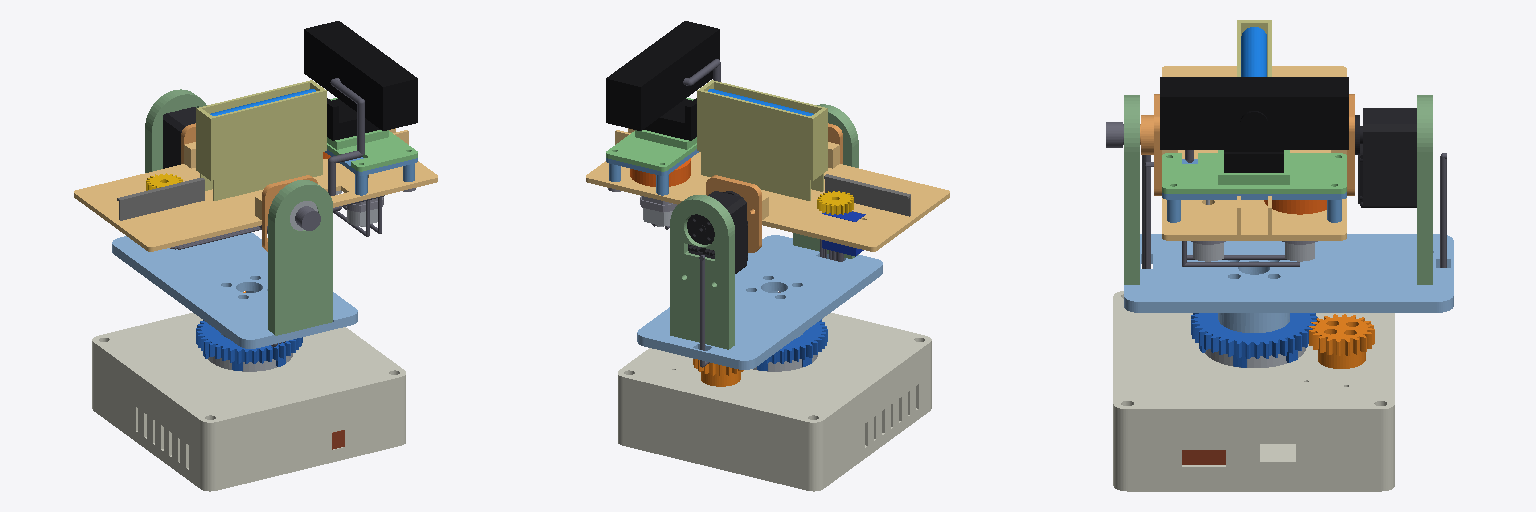
robot.urdf — torreta:
<?xml version="1.0"?>
<!-- GERADO por cad/gerar_urdf.py a partir do CAD da torreta. Não editar à mão: mudar o gerador. -->
<robot name="torreta">
  <material name="cor_12_12_13"><color rgba="0.12 0.12 0.13 1"/></material>
  <material name="cor_15_30_75"><color rgba="0.15 0.3 0.75 1"/></material>
  <material name="cor_15_55_95"><color rgba="0.15 0.55 0.95 1"/></material>
  <material name="cor_20_20_22"><color rgba="0.2 0.2 0.22 1"/></material>
  <material name="cor_20_45_80"><color rgba="0.2 0.45 0.8 1"/></material>
  <material name="cor_40_40_45"><color rgba="0.4 0.4 0.45 1"/></material>
  <material name="cor_45_45_50"><color rgba="0.45 0.45 0.5 1"/></material>
  <material name="cor_45_65_85"><color rgba="0.45 0.65 0.85 1"/></material>
  <material name="cor_50_50_50"><color rgba="0.5 0.5 0.5 1"/></material>
  <material name="cor_55_55_60"><color rgba="0.55 0.55 0.6 1"/></material>
  <material name="cor_55_70_55"><color rgba="0.55 0.7 0.55 1"/></material>
  <material name="cor_55_80_55"><color rgba="0.55 0.8 0.55 1"/></material>
  <material name="cor_60_30_20"><color rgba="0.6 0.3 0.2 1"/></material>
  <material name="cor_60_75_90"><color rgba="0.6 0.75 0.9 1"/></material>
  <material name="cor_70_72_75"><color rgba="0.7 0.72 0.75 1"/></material>
  <material name="cor_80_80_55"><color rgba="0.8 0.8 0.55 1"/></material>
  <material name="cor_85_25_25"><color rgba="0.85 0.25 0.25 1"/></material>
  <material name="cor_85_85_80"><color rgba="0.85 0.85 0.8 1"/></material>
  <material name="cor_90_65_40"><color rgba="0.9 0.65 0.4 1"/></material>
  <material name="cor_95_45_15"><color rgba="0.95 0.45 0.15 1"/></material>
  <material name="cor_95_55_15"><color rgba="0.95 0.55 0.15 1"/></material>
  <material name="cor_95_75_10"><color rgba="0.95 0.75 0.1 1"/></material>
  <material name="cor_95_80_55"><color rgba="0.95 0.8 0.55 1"/></material>

  <!-- world vazio: o robot_state_publisher não aceita inércia no link raiz; no Gazebo, prende a base.
       A base sobe o fundo da caixa até o chão (a origem do CAD é o topo do tampo). -->
  <link name="world"/>
  <joint name="world_base" type="fixed"><parent link="world"/><child link="base_link"/><origin xyz="0 0 0.0450128" rpy="0 0 0"/></joint>

  <link name="base_link">
    <visual>
      <origin xyz="0 0 0" rpy="0 0 0"/>
      <geometry><mesh filename="package://torreta_description/meshes/base_link_0.stl" scale="0.001 0.001 0.001"/></geometry>
      <material name="cor_20_20_22"/>
    </visual>
    <visual>
      <origin xyz="0 0 0" rpy="0 0 0"/>
      <geometry><mesh filename="package://torreta_description/meshes/base_link_1.stl" scale="0.001 0.001 0.001"/></geometry>
      <material name="cor_40_40_45"/>
    </visual>
    <visual>
      <origin xyz="0 0 0" rpy="0 0 0"/>
      <geometry><mesh filename="package://torreta_description/meshes/base_link_2.stl" scale="0.001 0.001 0.001"/></geometry>
      <material name="cor_60_30_20"/>
    </visual>
    <visual>
      <origin xyz="0 0 0" rpy="0 0 0"/>
      <geometry><mesh filename="package://torreta_description/meshes/base_link_3.stl" scale="0.001 0.001 0.001"/></geometry>
      <material name="cor_70_72_75"/>
    </visual>
    <visual>
      <origin xyz="0 0 0" rpy="0 0 0"/>
      <geometry><mesh filename="package://torreta_description/meshes/base_link_4.stl" scale="0.001 0.001 0.001"/></geometry>
      <material name="cor_85_85_80"/>
    </visual>
    <inertial>
      <origin xyz="0.00274903 0.00500803 -0.0153702" rpy="0 0 0"/>
      <mass value="0.370294"/>
      <inertia ixx="0.000765308" ixy="-4.05328e-05" ixz="2.07141e-06" iyy="0.000716418" iyz="6.34525e-06" izz="0.00126087"/>
    </inertial>
  </link>

  <link name="pinhao_pan">
    <visual>
      <origin xyz="0 0 0" rpy="0 0 0"/>
      <geometry><mesh filename="package://torreta_description/meshes/pinhao_pan_0.stl" scale="0.001 0.001 0.001"/></geometry>
      <material name="cor_95_55_15"/>
    </visual>
    <inertial>
      <origin xyz="1.35105e-18 2.5619e-18 0.00978645" rpy="0 0 0"/>
      <mass value="0.00947438"/>
      <inertia ixx="7.30724e-07" ixy="3.75762e-22" ixz="3.80726e-23" iyy="7.30724e-07" iyz="1.90239e-22" izz="1.00247e-06"/>
    </inertial>
  </link>

  <link name="pan_link">
    <visual>
      <origin xyz="0 0 0" rpy="0 0 0"/>
      <geometry><mesh filename="package://torreta_description/meshes/pan_link_0.stl" scale="0.001 0.001 0.001"/></geometry>
      <material name="cor_20_20_22"/>
    </visual>
    <visual>
      <origin xyz="0 0 0" rpy="0 0 0"/>
      <geometry><mesh filename="package://torreta_description/meshes/pan_link_1.stl" scale="0.001 0.001 0.001"/></geometry>
      <material name="cor_20_45_80"/>
    </visual>
    <visual>
      <origin xyz="0 0 0" rpy="0 0 0"/>
      <geometry><mesh filename="package://torreta_description/meshes/pan_link_2.stl" scale="0.001 0.001 0.001"/></geometry>
      <material name="cor_40_40_45"/>
    </visual>
    <visual>
      <origin xyz="0 0 0" rpy="0 0 0"/>
      <geometry><mesh filename="package://torreta_description/meshes/pan_link_3.stl" scale="0.001 0.001 0.001"/></geometry>
      <material name="cor_55_70_55"/>
    </visual>
    <visual>
      <origin xyz="0 0 0" rpy="0 0 0"/>
      <geometry><mesh filename="package://torreta_description/meshes/pan_link_4.stl" scale="0.001 0.001 0.001"/></geometry>
      <material name="cor_60_75_90"/>
    </visual>
    <visual>
      <origin xyz="0 0 0" rpy="0 0 0"/>
      <geometry><mesh filename="package://torreta_description/meshes/pan_link_5.stl" scale="0.001 0.001 0.001"/></geometry>
      <material name="cor_70_72_75"/>
    </visual>
    <inertial>
      <origin xyz="3.51657e-05 0.0192638 0.065288" rpy="0 0 0"/>
      <mass value="0.259808"/>
      <inertia ixx="0.00110694" ixy="2.65069e-07" ixz="2.12766e-07" iyy="0.000407362" iyz="-7.39599e-05" izz="0.000841564"/>
    </inertial>
  </link>

  <link name="berco">
    <visual>
      <origin xyz="0 0 0" rpy="0 0 0"/>
      <geometry><mesh filename="package://torreta_description/meshes/berco_0.stl" scale="0.001 0.001 0.001"/></geometry>
      <material name="cor_12_12_13"/>
    </visual>
    <visual>
      <origin xyz="0 0 0" rpy="0 0 0"/>
      <geometry><mesh filename="package://torreta_description/meshes/berco_1.stl" scale="0.001 0.001 0.001"/></geometry>
      <material name="cor_15_30_75"/>
    </visual>
    <visual>
      <origin xyz="0 0 0" rpy="0 0 0"/>
      <geometry><mesh filename="package://torreta_description/meshes/berco_2.stl" scale="0.001 0.001 0.001"/></geometry>
      <material name="cor_15_55_95"/>
    </visual>
    <visual>
      <origin xyz="0 0 0" rpy="0 0 0"/>
      <geometry><mesh filename="package://torreta_description/meshes/berco_3.stl" scale="0.001 0.001 0.001"/></geometry>
      <material name="cor_40_40_45"/>
    </visual>
    <visual>
      <origin xyz="0 0 0" rpy="0 0 0"/>
      <geometry><mesh filename="package://torreta_description/meshes/berco_4.stl" scale="0.001 0.001 0.001"/></geometry>
      <material name="cor_45_45_50"/>
    </visual>
    <visual>
      <origin xyz="0 0 0" rpy="0 0 0"/>
      <geometry><mesh filename="package://torreta_description/meshes/berco_5.stl" scale="0.001 0.001 0.001"/></geometry>
      <material name="cor_45_65_85"/>
    </visual>
    <visual>
      <origin xyz="0 0 0" rpy="0 0 0"/>
      <geometry><mesh filename="package://torreta_description/meshes/berco_6.stl" scale="0.001 0.001 0.001"/></geometry>
      <material name="cor_50_50_50"/>
    </visual>
    <visual>
      <origin xyz="0 0 0" rpy="0 0 0"/>
      <geometry><mesh filename="package://torreta_description/meshes/berco_7.stl" scale="0.001 0.001 0.001"/></geometry>
      <material name="cor_55_55_60"/>
    </visual>
    <visual>
      <origin xyz="0 0 0" rpy="0 0 0"/>
      <geometry><mesh filename="package://torreta_description/meshes/berco_8.stl" scale="0.001 0.001 0.001"/></geometry>
      <material name="cor_55_80_55"/>
    </visual>
    <visual>
      <origin xyz="0 0 0" rpy="0 0 0"/>
      <geometry><mesh filename="package://torreta_description/meshes/berco_9.stl" scale="0.001 0.001 0.001"/></geometry>
      <material name="cor_70_72_75"/>
    </visual>
    <visual>
      <origin xyz="0 0 0" rpy="0 0 0"/>
      <geometry><mesh filename="package://torreta_description/meshes/berco_10.stl" scale="0.001 0.001 0.001"/></geometry>
      <material name="cor_80_80_55"/>
    </visual>
    <visual>
      <origin xyz="0 0 0" rpy="0 0 0"/>
      <geometry><mesh filename="package://torreta_description/meshes/berco_11.stl" scale="0.001 0.001 0.001"/></geometry>
      <material name="cor_90_65_40"/>
    </visual>
    <visual>
      <origin xyz="0 0 0" rpy="0 0 0"/>
      <geometry><mesh filename="package://torreta_description/meshes/berco_12.stl" scale="0.001 0.001 0.001"/></geometry>
      <material name="cor_95_80_55"/>
    </visual>
    <collision>
      <origin xyz="0.03625 0 -0.008" rpy="0 0 0"/>
      <geometry><box size="0.1355 0.0172 0.003"/></geometry>
    </collision>
    <collision>
      <origin xyz="0.0082 0.0076 0" rpy="0 0 0"/>
      <geometry><box size="0.0744 0.002 0.013"/></geometry>
    </collision>
    <collision>
      <origin xyz="0.0082 -0.0076 0" rpy="0 0 0"/>
      <geometry><box size="0.0744 0.002 0.013"/></geometry>
    </collision>
    <collision>
      <origin xyz="0.0692 0 0.008" rpy="0 0 0"/>
      <geometry><box size="0.0416 0.0172 0.003"/></geometry>
    </collision>
    <inertial>
      <origin xyz="0.0452454 -0.00354173 0.0184069" rpy="0 0 0"/>
      <mass value="0.388121"/>
      <inertia ixx="0.000638751" ixy="-5.76847e-05" ixz="-0.000249438" iyy="0.00110131" iyz="-2.26803e-05" izz="0.00113866"/>
    </inertial>
  </link>

  <link name="rotor_mais_y">
    <visual>
      <origin xyz="0 0 0" rpy="0 0 0"/>
      <geometry><mesh filename="package://torreta_description/meshes/rotor_mais_y_0.stl" scale="0.001 0.001 0.001"/></geometry>
      <material name="cor_95_45_15"/>
    </visual>
    <inertial>
      <origin xyz="6.72597e-19 -2.2065e-19 -4.07168e-05" rpy="0 0 0"/>
      <mass value="0.0126804"/>
      <inertia ixx="1.13067e-06" ixy="6.43736e-23" ixz="1.43138e-23" iyy="1.13067e-06" iyz="-3.79324e-24" izz="2.04591e-06"/>
    </inertial>
  </link>

  <link name="rotor_menos_y">
    <visual>
      <origin xyz="0 0 0" rpy="0 0 0"/>
      <geometry><mesh filename="package://torreta_description/meshes/rotor_menos_y_0.stl" scale="0.001 0.001 0.001"/></geometry>
      <material name="cor_95_45_15"/>
    </visual>
    <inertial>
      <origin xyz="6.72597e-19 -2.2065e-19 -4.07168e-05" rpy="0 0 0"/>
      <mass value="0.0126804"/>
      <inertia ixx="1.13067e-06" ixy="6.43736e-23" ixz="1.43138e-23" iyy="1.13067e-06" iyz="-3.79324e-24" izz="2.04591e-06"/>
    </inertial>
  </link>

  <link name="pinhao_sg90">
    <visual>
      <origin xyz="0 0 0" rpy="0 0 0"/>
      <geometry><mesh filename="package://torreta_description/meshes/pinhao_sg90_0.stl" scale="0.001 0.001 0.001"/></geometry>
      <material name="cor_95_75_10"/>
    </visual>
    <inertial>
      <origin xyz="7.48875e-20 4.07559e-19 -0.0005" rpy="0 0 0"/>
      <mass value="0.00208156"/>
      <inertia ixx="6.11358e-08" ixy="-1.01121e-23" ixz="3.83082e-25" iyy="6.11358e-08" iyz="9.30592e-25" izz="1.09782e-07"/>
    </inertial>
  </link>

  <link name="empurrador">
    <visual>
      <origin xyz="0 0 0" rpy="0 0 0"/>
      <geometry><mesh filename="package://torreta_description/meshes/empurrador_0.stl" scale="0.001 0.001 0.001"/></geometry>
      <material name="cor_85_25_25"/>
    </visual>
    <collision>
      <origin xyz="-0.06025 0.00125 -0.0005" rpy="0 0 0"/>
      <geometry><box size="0.0615 0.0075 0.012"/></geometry>
    </collision>
    <inertial>
      <origin xyz="-0.0602377 0.000456248 -0.0005" rpy="0 0 0"/>
      <mass value="0.00529921"/>
      <inertia ixx="7.6006e-08" ixy="-2.19131e-10" ixz="3.60887e-22" iyy="1.72901e-06" iyz="2.67846e-24" izz="1.68675e-06"/>
    </inertial>
  </link>

  <joint name="pan_motor" type="revolute">
    <parent link="base_link"/>
    <child link="pinhao_pan"/>
    <origin xyz="0.0116469 0.0434667 0" rpy="0 0 0"/>
    <axis xyz="0 0 1"/>
    <limit lower="-3.14159" upper="3.14159" effort="1.80893" velocity="5.15933"/>
  </joint>

  <joint name="pan" type="revolute">
    <parent link="base_link"/>
    <child link="pan_link"/>
    <origin xyz="0 0 0" rpy="0 0 0"/>
    <axis xyz="0 0 1"/>
    <limit lower="-1.6057" upper="1.6057" effort="3.61786" velocity="2.57967"/>
    <mimic joint="pan_motor" multiplier="-0.5" offset="0"/>
  </joint>

  <joint name="tilt" type="revolute">
    <parent link="pan_link"/>
    <child link="berco"/>
    <origin xyz="0 0 0.118" rpy="0 0 0"/>
    <axis xyz="0 -1 0"/>
    <limit lower="-0.349066" upper="0.698132" effort="1.80893" velocity="5.15933"/>
  </joint>

  <joint name="volante_motor" type="continuous">
    <parent link="berco"/>
    <child link="rotor_mais_y"/>
    <origin xyz="0.065 0.022825 0" rpy="0 0 0"/>
    <axis xyz="0 0 1"/>
    <limit effort="0.00353" velocity="1288.05"/>
  </joint>

  <joint name="volante_espelho" type="continuous">
    <parent link="berco"/>
    <child link="rotor_menos_y"/>
    <origin xyz="0.065 -0.022825 0" rpy="0 0 0"/>
    <axis xyz="0 0 1"/>
    <limit effort="0.00353" velocity="1288.05"/>
    <mimic joint="volante_motor" multiplier="-1" offset="0"/>
  </joint>

  <joint name="sg90" type="revolute">
    <parent link="berco"/>
    <child link="pinhao_sg90"/>
    <origin xyz="-0.05 0.014 0" rpy="0 0 0"/>
    <axis xyz="0 0 1"/>
    <limit lower="0" upper="1.55" effort="0.17652" velocity="8.72665"/>
  </joint>

  <joint name="cremalheira" type="prismatic">
    <parent link="berco"/>
    <child link="empurrador"/>
    <origin xyz="0 0 0" rpy="0 0 0"/>
    <axis xyz="1 0 0"/>
    <limit lower="-0.001" upper="0.0165" effort="17.652" velocity="0.0872665"/>
    <mimic joint="sg90" multiplier="0.01" offset="0"/>
  </joint>
</robot>

--- What the picture shows (computed from the rendered views, not written in the file) ---
The picture shows the robot from 3 angles, left to right: view 1: azimuth 30°, elevation 25°; view 2: azimuth 150°, elevation 25°; view 3: azimuth 270°, elevation 25°; orthographic projection.
Model torreta with 9 links and 8 joints (4 revolute, 2 continuous, 1 prismatic, 1 fixed), rooted at world, posed every joint at zero.
Links seen in each view (by area): view 1: berco, base_link, pan_link; view 2: berco, base_link, pan_link, pinhao_pan, pinhao_sg90, rotor_mais_y; view 3: base_link, pan_link, berco, pinhao_pan, rotor_mais_y.
Boxes of the visible links, left/top/right/bottom form: berco: left=74, top=21, right=437, bottom=251; base_link: left=92, top=313, right=405, bottom=491; pan_link: left=112, top=89, right=357, bottom=370; berco: left=586, top=21, right=949, bottom=256; base_link: left=618, top=313, right=931, bottom=491; pan_link: left=637, top=104, right=882, bottom=370; pinhao_pan: left=693, top=359, right=743, bottom=386; pinhao_sg90: left=817, top=191, right=853, bottom=214; rotor_mais_y: left=630, top=158, right=690, bottom=186; base_link: left=1113, top=291, right=1394, bottom=491; pan_link: left=1124, top=95, right=1453, bottom=367; berco: left=1106, top=20, right=1354, bottom=266; pinhao_pan: left=1309, top=314, right=1374, bottom=368; rotor_mais_y: left=1264, top=200, right=1326, bottom=214.
Bounding box of the posed robot: 0.199 × 0.1726 × 0.225 m (x, y, z).
Meshes: 29 distinct files referenced, 26 mesh visuals loaded (26 binary STL); not drawn: 3 (reference not matched to a file when rendering).
